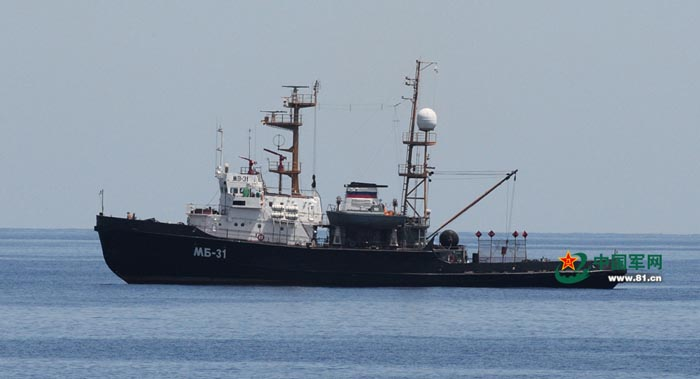otherboat: (94, 65, 635, 300)
